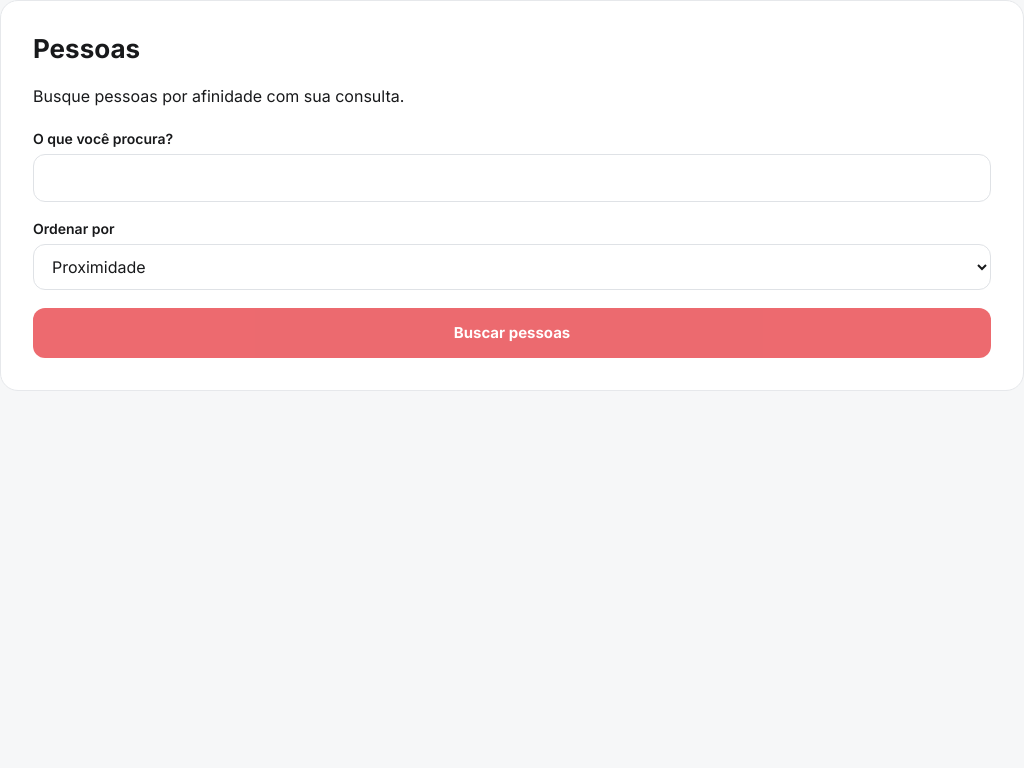
reconcilia conexão criada em outra sessão após conflito
This screenshot has width=1024, height=768.
Type "tecnologia" into the field labelled "O que você procura?" at [512, 178], box [33,154,991,202]
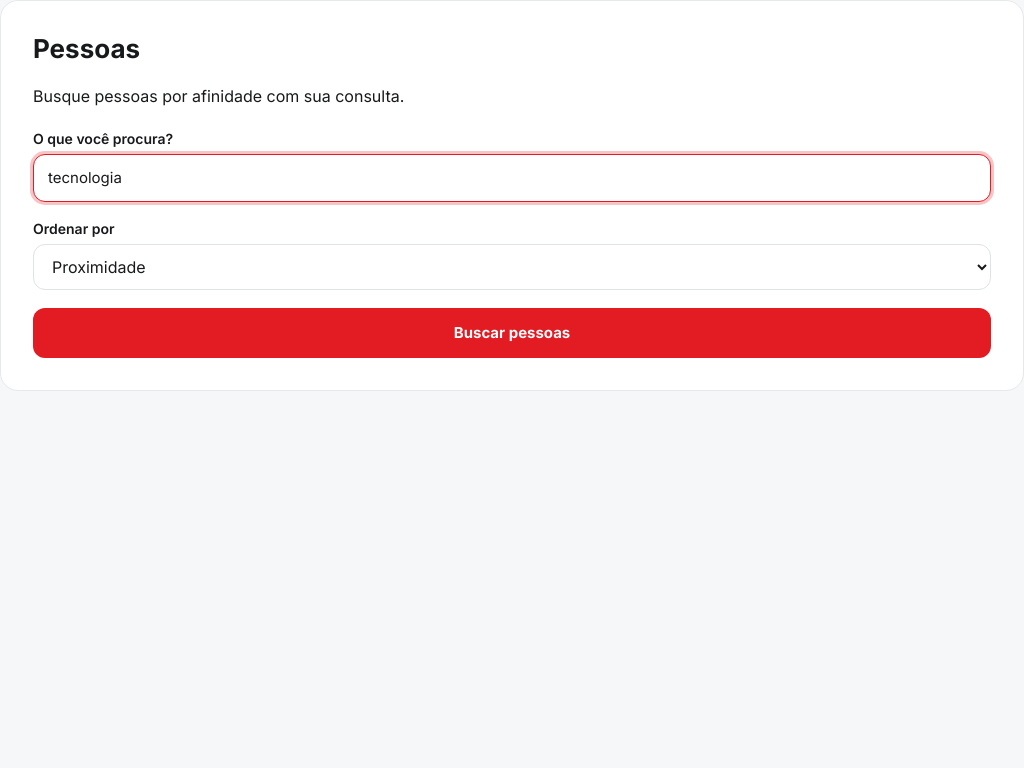
Click the button "Buscar pessoas" at [512, 333], box [33,308,991,358]
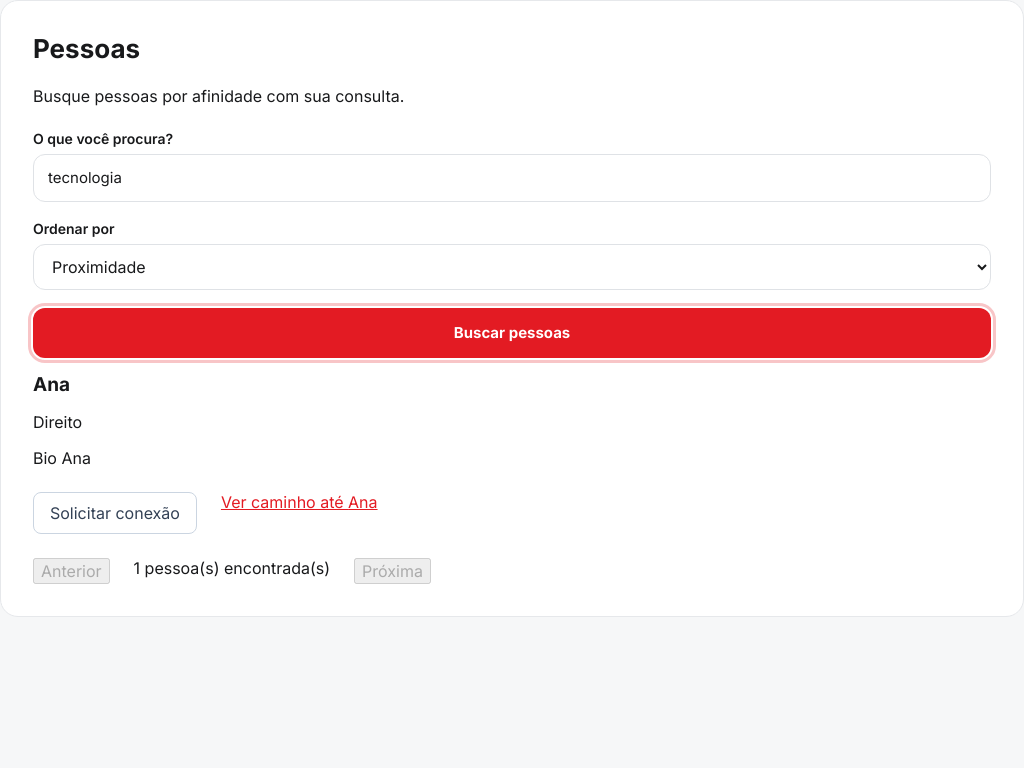
expect the heading "Ana" is shown: met, box [33,373,70,396]
Click the button "Solicitar conexão" at [115, 513], box [33,492,197,534]
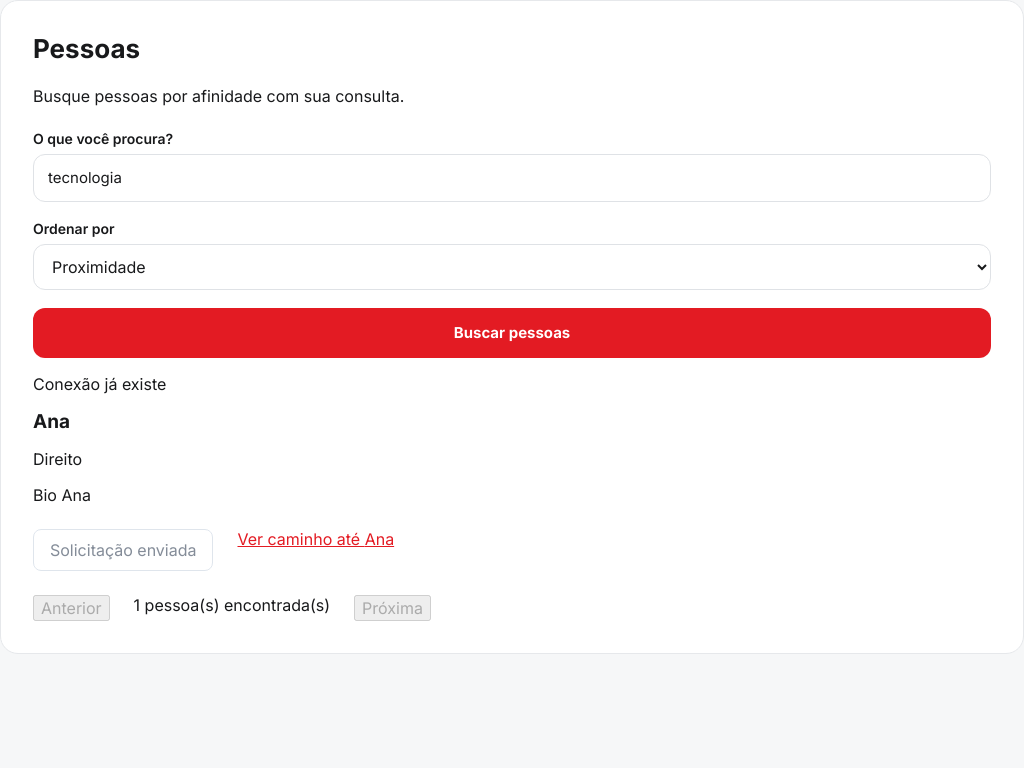
expect the button "Solicitação enviada" is disabled: met, box [33,529,214,571]
expect the text "Conexão já existe" is shown: met, box [33,374,166,394]
